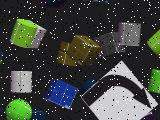Right: (80, 60, 158, 120)
